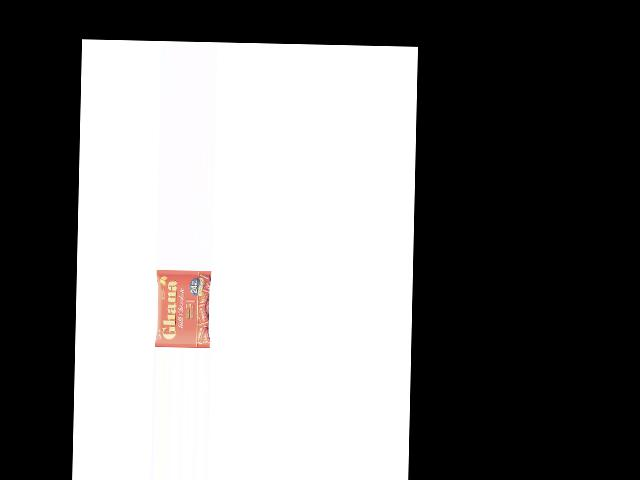chocolate: (156, 268, 213, 346)
